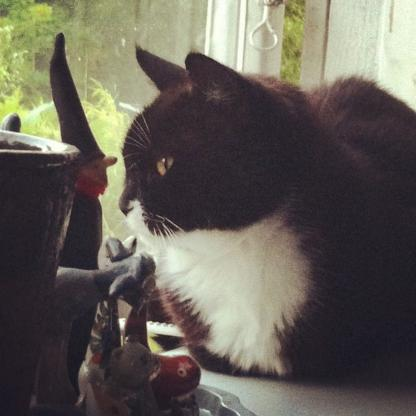Cat: (115, 41, 414, 378)
